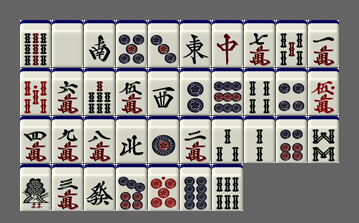0m: (308, 68, 339, 115)
0p: (148, 164, 179, 211)
0s: (20, 68, 51, 115)
1m: (308, 20, 339, 67)
1p: (148, 116, 179, 163)
1s: (20, 164, 51, 211)
1z: (180, 20, 211, 67)
2m: (180, 116, 211, 163)
2p: (180, 68, 211, 115)
2s: (244, 116, 275, 163)
2z: (84, 20, 115, 67)
3m: (52, 164, 83, 211)
3p: (148, 20, 179, 67)
3s: (212, 116, 243, 163)
3z: (148, 68, 179, 115)
4m: (20, 116, 51, 163)
4p: (276, 68, 307, 115)
4s: (244, 68, 275, 115)
4z: (116, 116, 147, 163)
5m: (116, 68, 147, 115)
5p: (116, 20, 147, 67)
5s: (276, 20, 307, 67)
5z: (52, 20, 83, 67)
6m: (52, 68, 83, 115)
6p: (276, 116, 307, 163)
6s: (212, 164, 243, 211)
6z: (84, 164, 115, 211)
7m: (244, 20, 275, 67)
7p: (116, 164, 147, 211)
7s: (84, 68, 115, 115)
7z: (212, 20, 243, 67)
8m: (84, 116, 115, 163)
8p: (180, 164, 211, 211)
8s: (308, 116, 339, 163)
9m: (52, 116, 83, 163)
9p: (212, 68, 243, 115)
9s: (20, 20, 51, 67)
